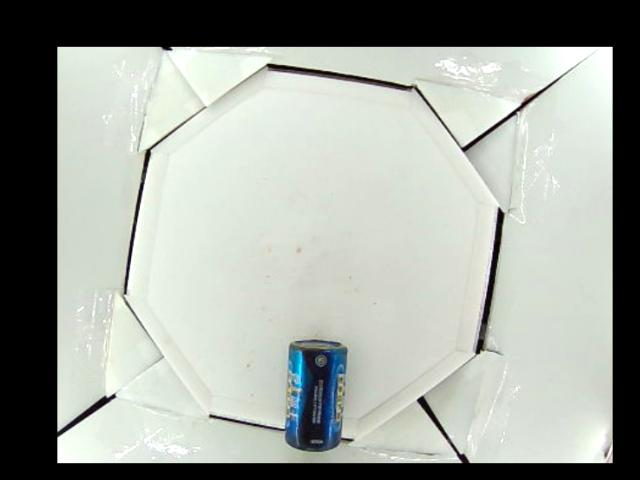Battery: (284, 339, 346, 450)
